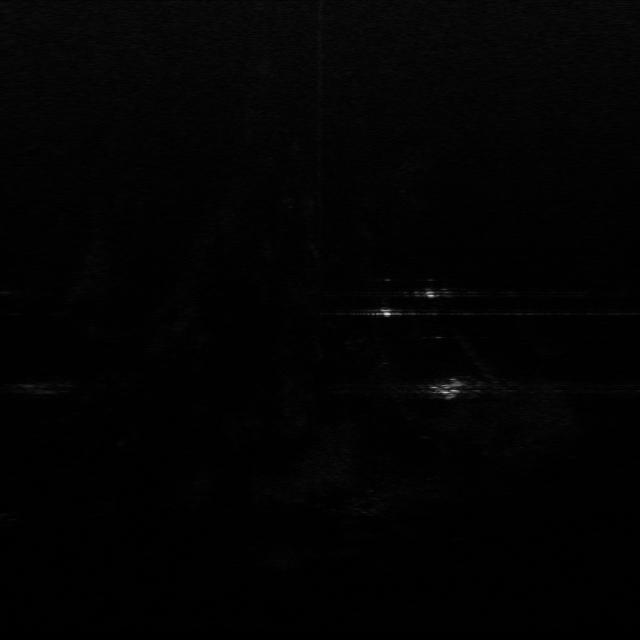rov: (427, 378, 471, 402)
